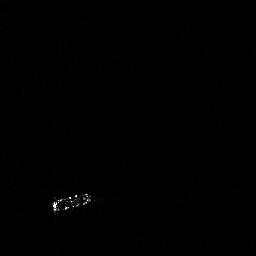ship: (52, 190, 92, 213)
